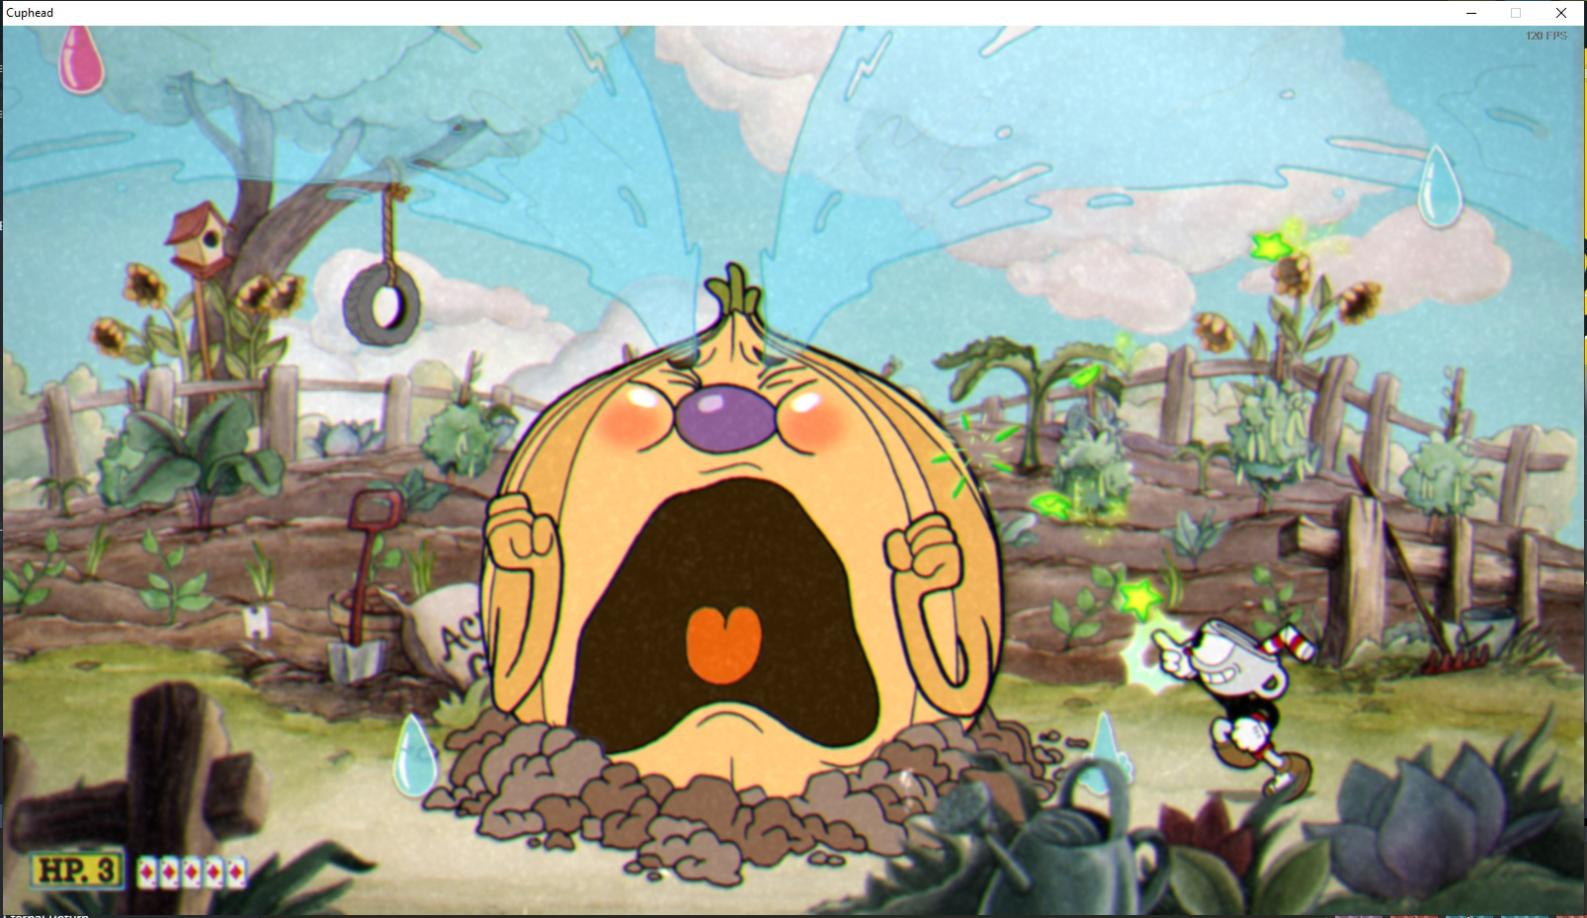hp3: (90, 853, 123, 889)
onion_boss: (472, 252, 1024, 807)
pink_rain: (52, 26, 113, 102)
player: (1146, 602, 1330, 804)
rain: (1406, 138, 1478, 236), (385, 706, 445, 806)
